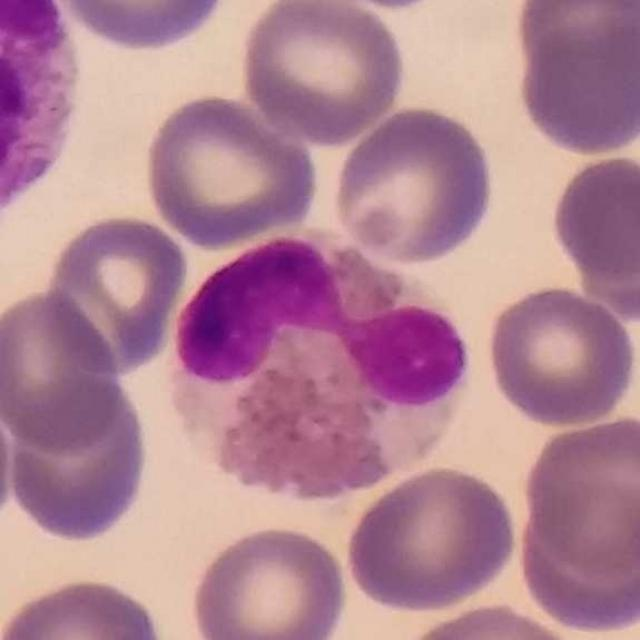eosino: (168, 222, 472, 499)
